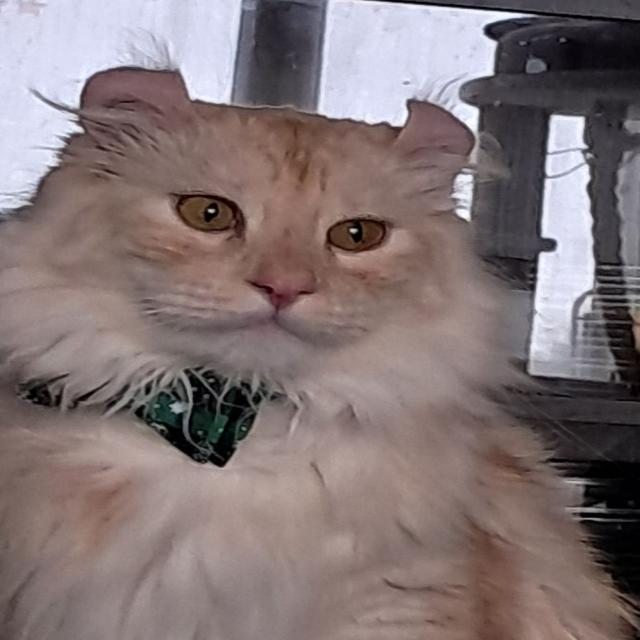American Curl: (0, 59, 640, 640)
